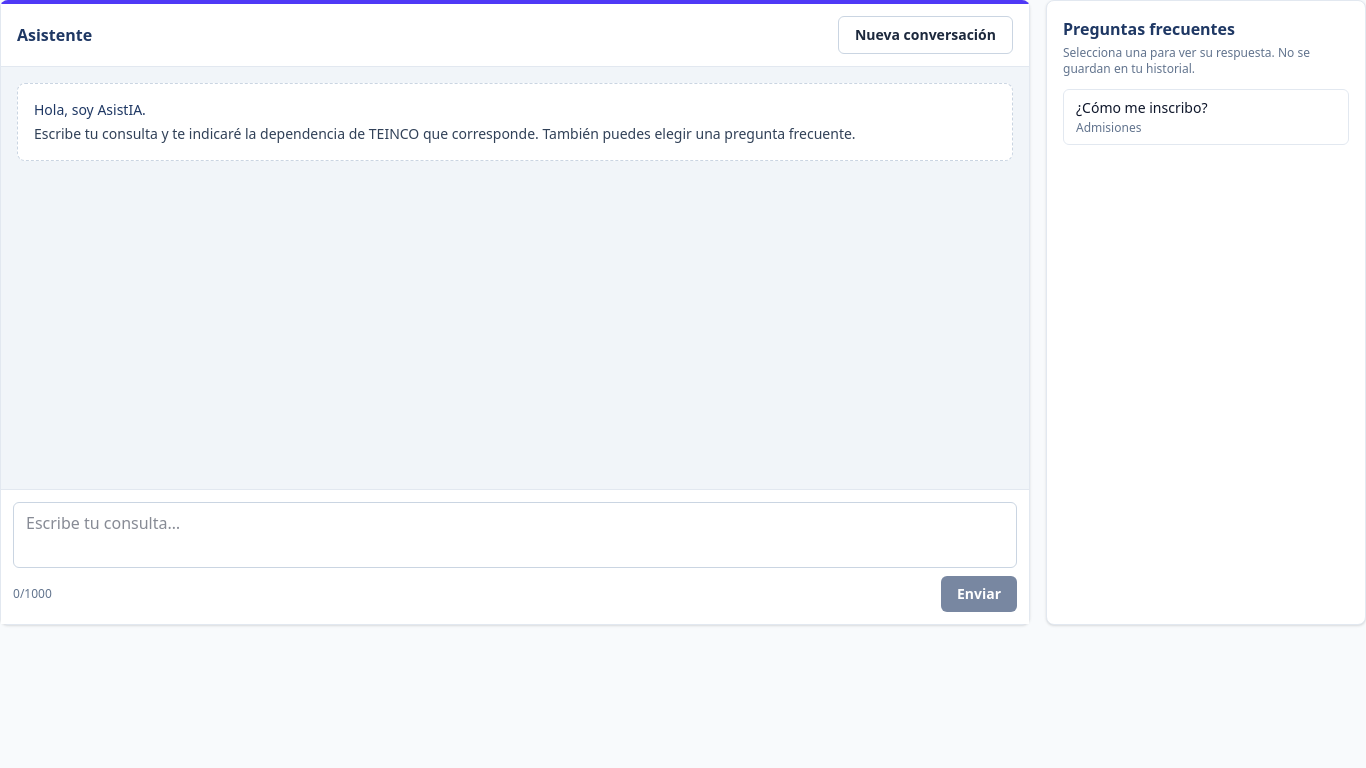
el mismo formato en el chat y en las preguntas frecuentes › el chat muestra la respuesta del API con su contacto y dependencia, y el escalamiento también
The width and height of the screenshot is (1366, 768).
In the text box labelled "Escribe tu consulta": coordinates (515, 535) [13,502,1017,568], type "Quiero inscribirme"
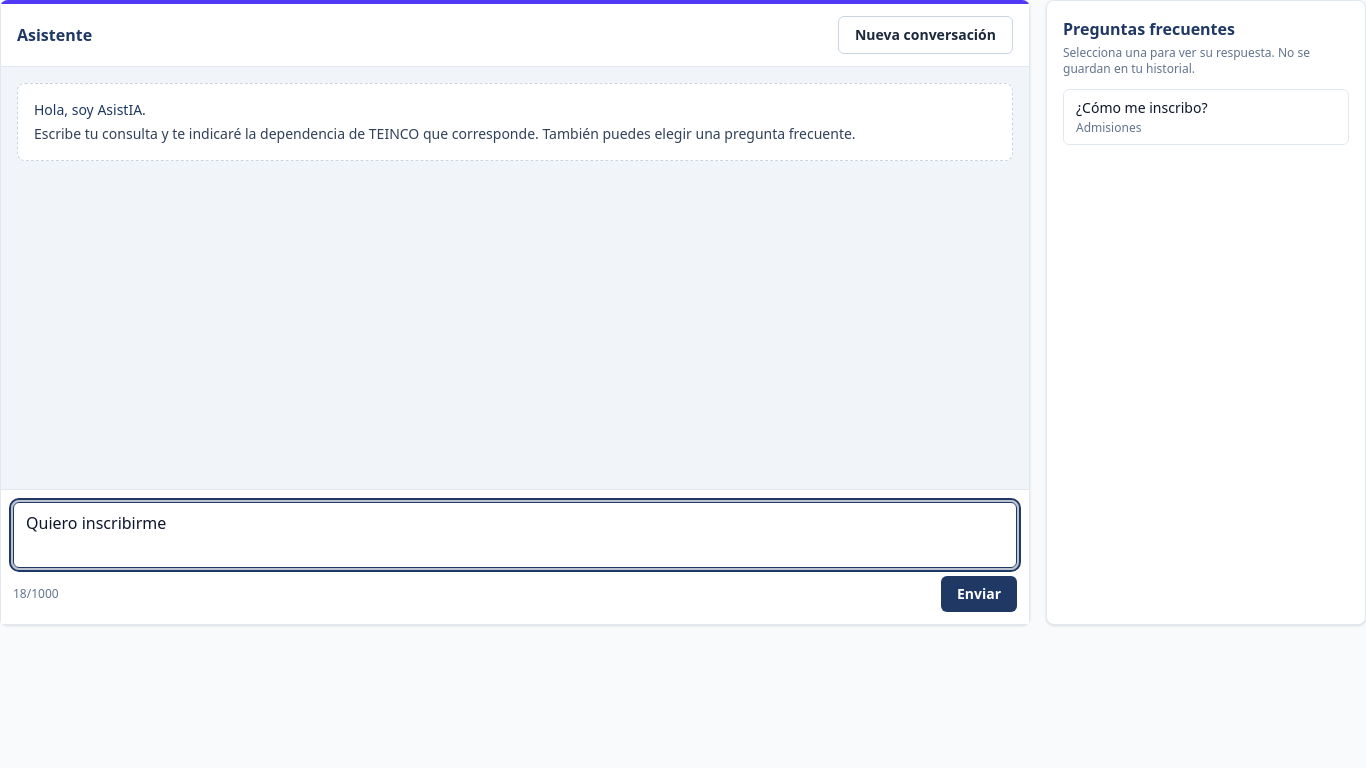
Click the button "Enviar": coordinates (979, 594) [941,576,1017,612]
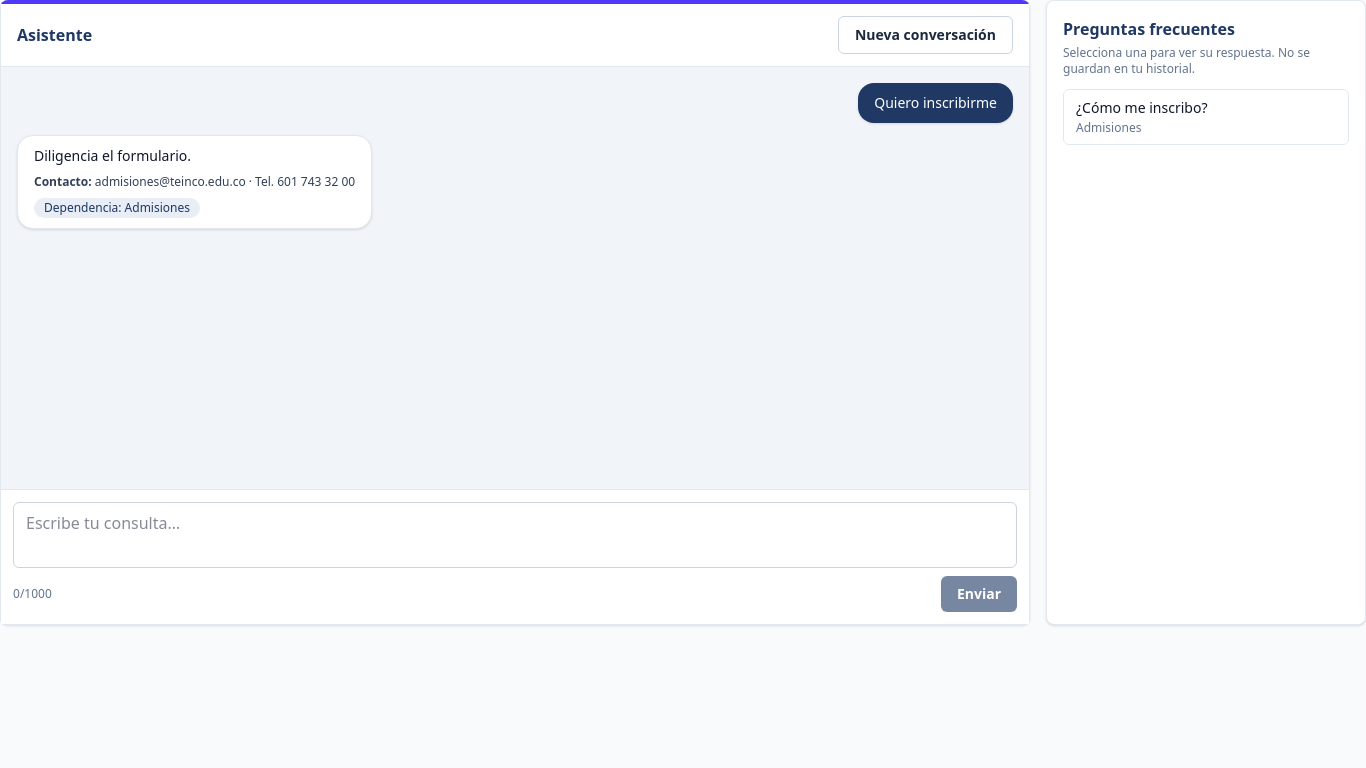
Now the text "Diligencia el formulario." is shown, box [34,146,191,165]
In the text box labelled "Escribe tu consulta": coordinates (515, 535) [13,502,1017,568], type "otra cosa"
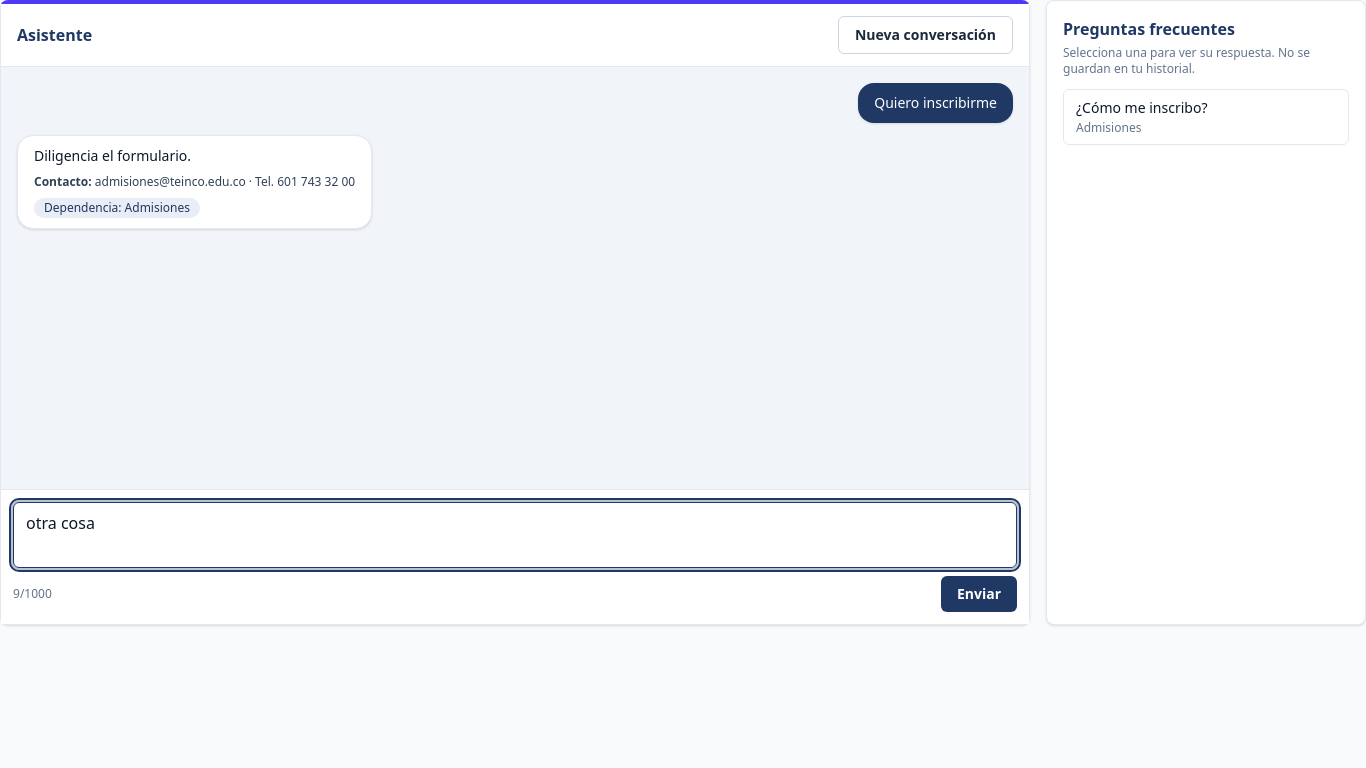
Click the button "Enviar": coordinates (979, 594) [941,576,1017,612]
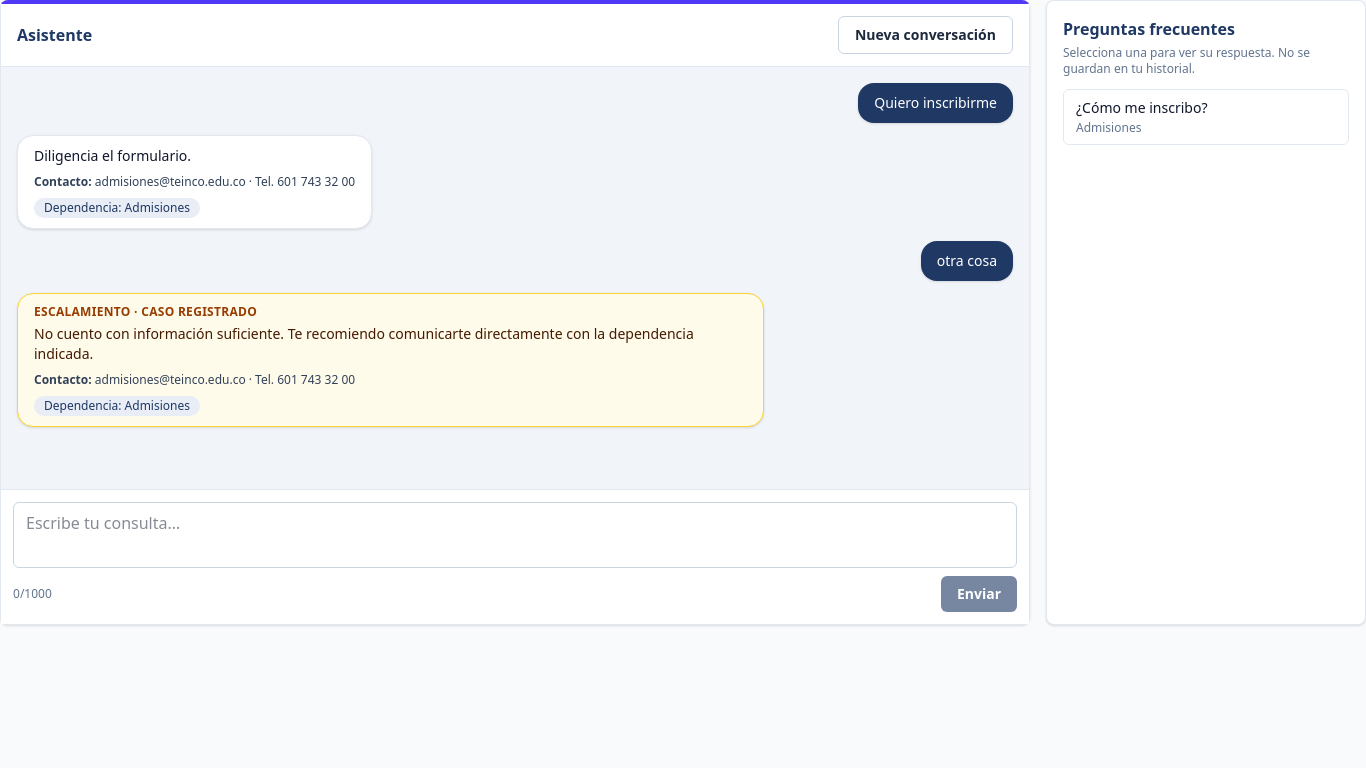
Now the text "Escalamiento · caso registrado" is shown, box [34,303,257,320]
Now the text "Dependencia: Admisiones" is shown 2 times, box [34,198,200,218]; [34,396,200,416]
Now the text "Contacto:" is shown 2 times, box [34,173,92,190]; [34,371,92,388]
